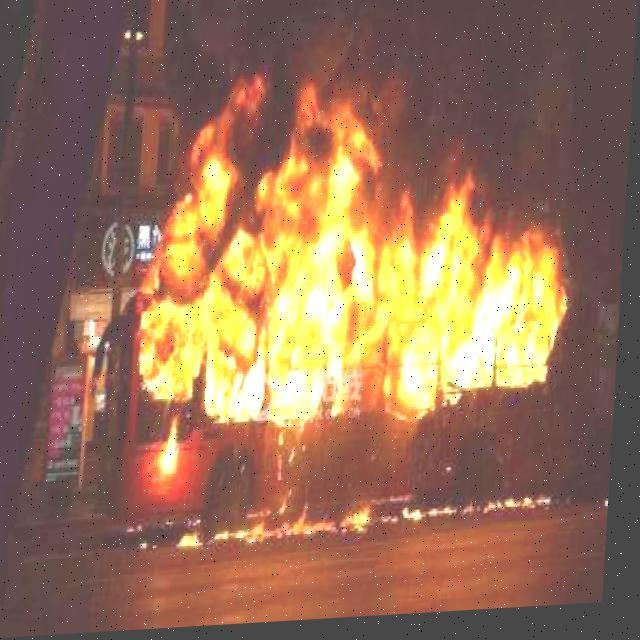Fire: (140, 92, 575, 440)
